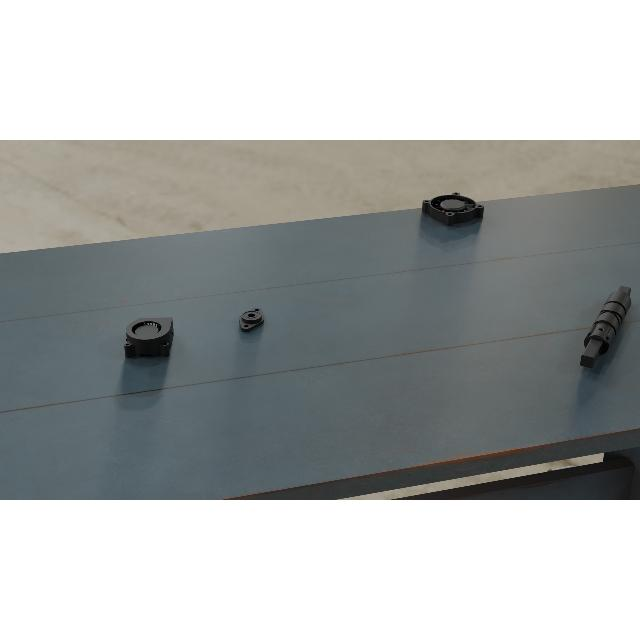Pieza1: (572, 280, 638, 376)
Pieza2: (232, 304, 270, 332)
Pieza3: (122, 317, 174, 358)
Pieza4: (419, 192, 486, 228)
